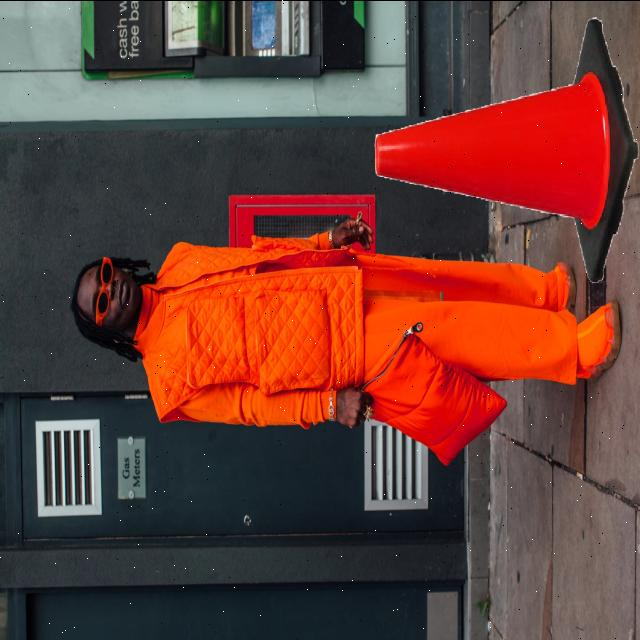traffic cone: (368, 14, 640, 291)
